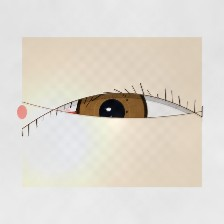hemorrhage_spot: (42, 84, 130, 155)
